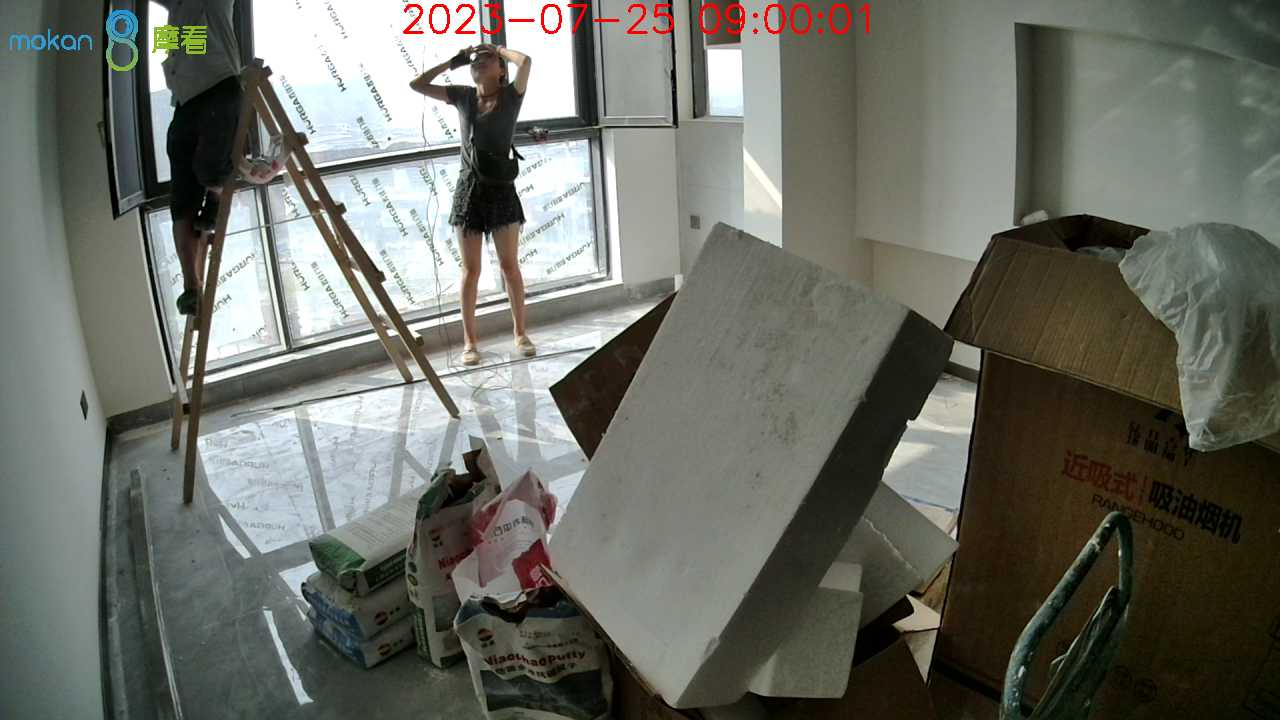people: (406, 45, 545, 361), (142, 1, 256, 325)
window: (172, 1, 598, 393)
